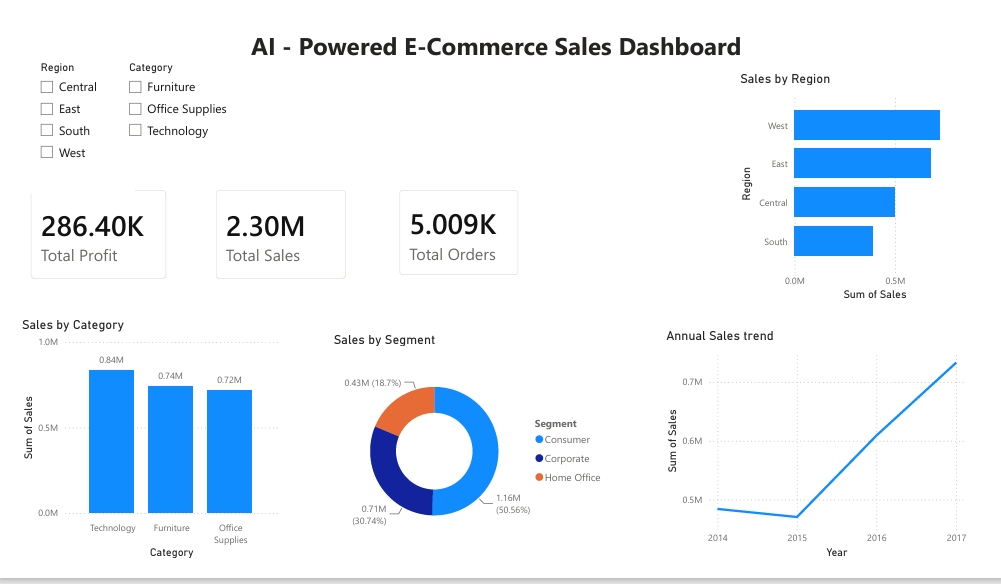

What the dashboard file says about the page in this screenshot:
{"tool":"powerbi","page":{"name":"Page 1","canvas":[1280,720],"ordinal":0},"visuals":[{"type":"cardVisual","fields":{"Data":["Sum(cleaned_superstore.Sales)"]},"box":[245.2,213.3,206.6,151.2],"z":0},{"type":"cardVisual","fields":{"Data":["Sum(cleaned_superstore.Profit)"]},"box":[0,213.1,213.1,151.2],"z":1},{"type":"cardVisual","fields":{"Data":["Count(cleaned_superstore.Order ID)"]},"box":[488.2,213.1,191.5,146.9],"z":2},{"type":"clusteredColumnChart","title":" Sales by Category","fields":{"Category":["cleaned_superstore.Category"],"Y":["Sum(cleaned_superstore.Sales)"]},"box":[0,398.1,349.4,322.5],"z":3},{"type":"clusteredBarChart","title":" Sales by Region","fields":{"Category":["cleaned_superstore.Region"],"Y":["Sum(cleaned_superstore.Sales)"]},"box":[950.8,72.2,309.1,309.1],"z":4},{"type":"lineChart","title":"Annual Sales trend","fields":{"Y":["Sum(cleaned_superstore.Sales)"],"Category":["cleaned_superstore.Order Date.Variation.Date Hierarchy.Year"]},"box":[853.3,411.5,406.5,309.1],"z":5},{"type":"donutChart","title":"Sales by Segment","fields":{"Category":["cleaned_superstore.Segment"],"Y":["Sum(cleaned_superstore.Sales)"]},"box":[413.2,416.6,372.9,297.3],"z":6},{"type":"slicer","fields":{"Values":["cleaned_superstore.Region"]},"box":[16.8,55.4,139.4,179.7],"z":7},{"type":"textbox","box":[244.8,11.5,776.2,56.2],"z":8},{"type":"slicer","fields":{"Values":["cleaned_superstore.Category"]},"box":[133.9,54.7,158.4,167],"z":9}]}

Visuals, with their boxes on the page's 1280x720 design canvas (x1, y1, x2, y2). These are canvas units, not pixel positions in the 1001x584 screenshot, which may show the page scaled, cropped or inside an application window:
cardVisual - Sum(cleaned_superstore.Sales): rect(245, 213, 452, 364)
cardVisual - Sum(cleaned_superstore.Profit): rect(0, 213, 213, 364)
cardVisual - Count(cleaned_superstore.Order ID): rect(488, 213, 680, 360)
" Sales by Category" clusteredColumnChart: rect(0, 398, 349, 721)
" Sales by Region" clusteredBarChart: rect(951, 72, 1260, 381)
"Annual Sales trend" lineChart: rect(853, 412, 1260, 721)
"Sales by Segment" donutChart: rect(413, 417, 786, 714)
slicer - cleaned_superstore.Region: rect(17, 55, 156, 235)
textbox: rect(245, 12, 1021, 68)
slicer - cleaned_superstore.Category: rect(134, 55, 292, 222)
